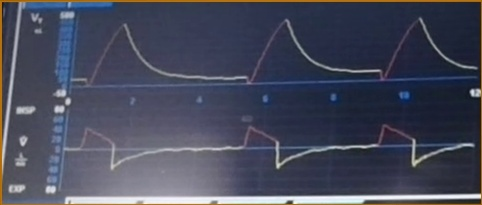Flow: (68, 113, 465, 185)
Leakage Volume: (75, 12, 469, 92)
